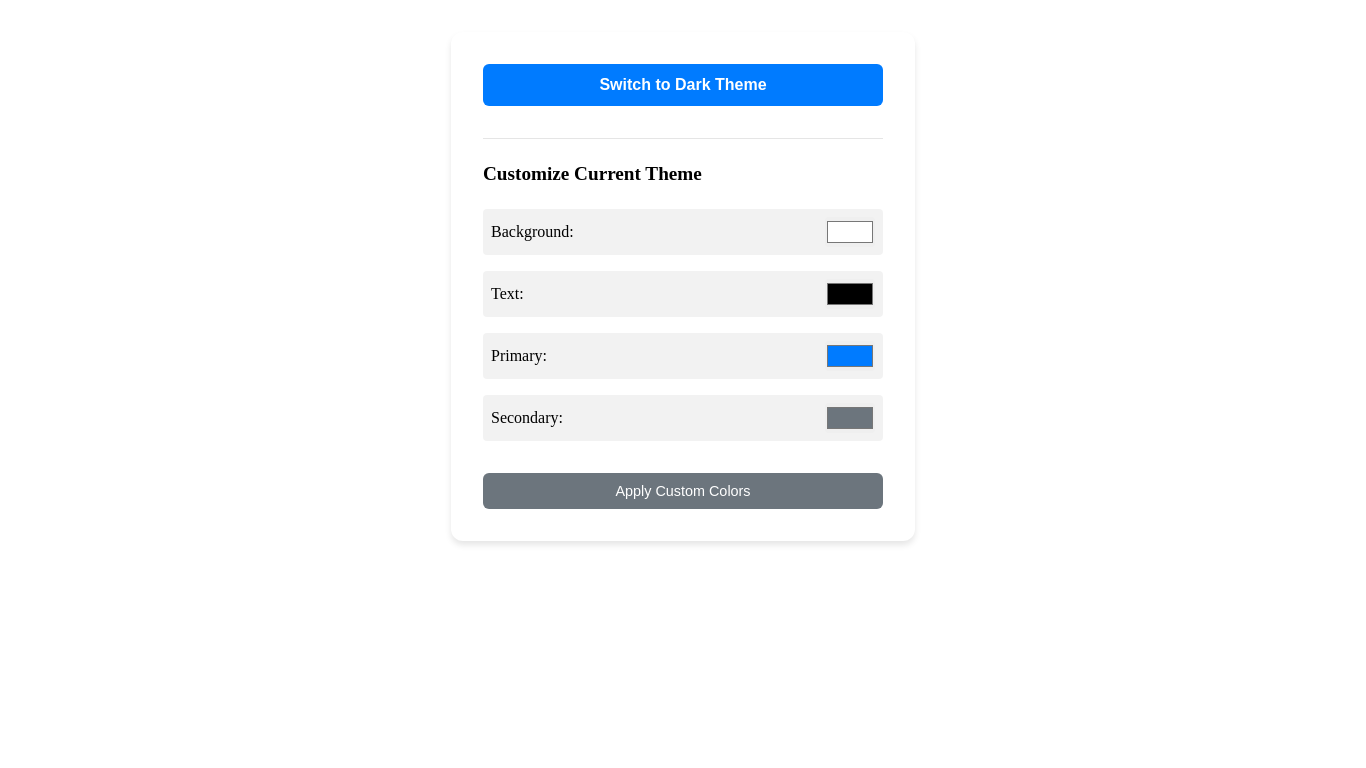
Test: ThemeSwitcher › toggles the theme when the button is clicked
Click the button "Switch to Dark Theme": [683, 85] box left=483, top=64, right=883, bottom=106
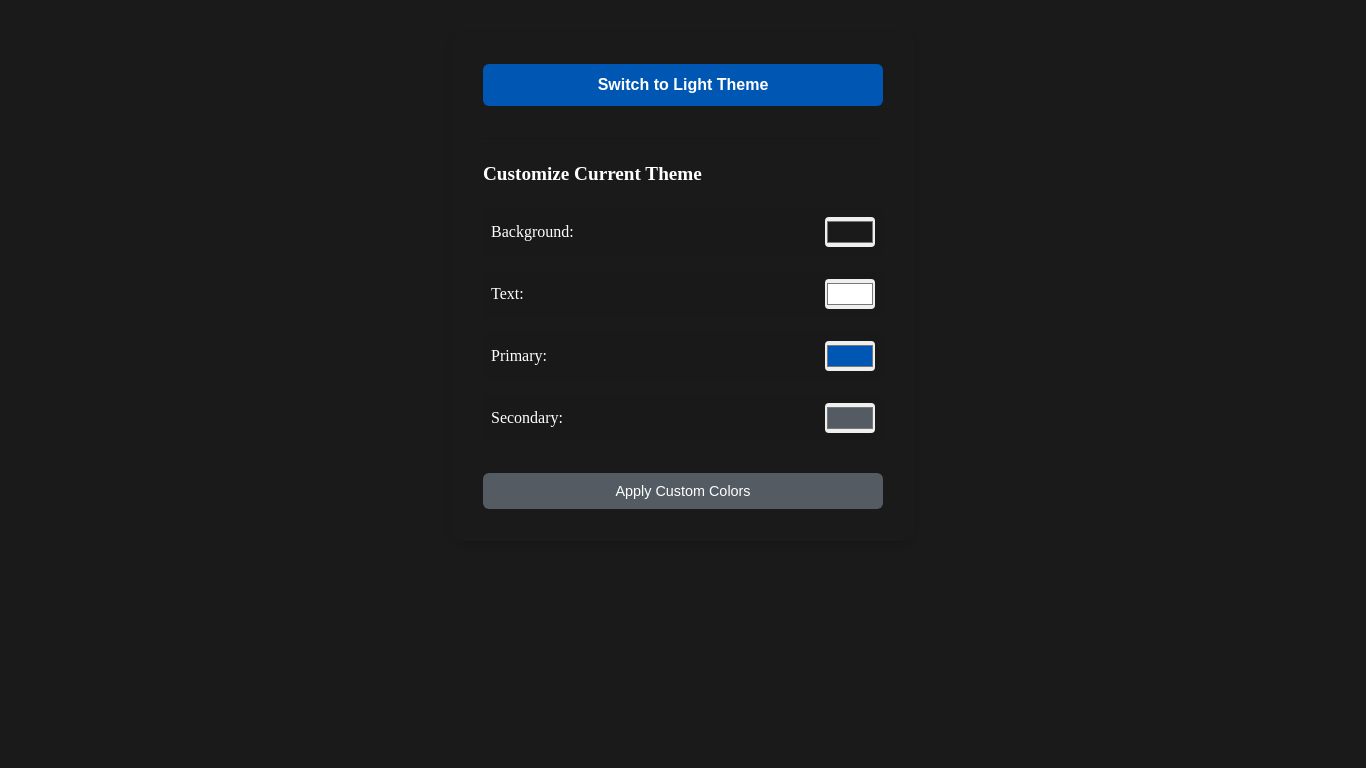
Result: the button "Switch to Light Theme" is shown at left=483, top=64, right=883, bottom=106
